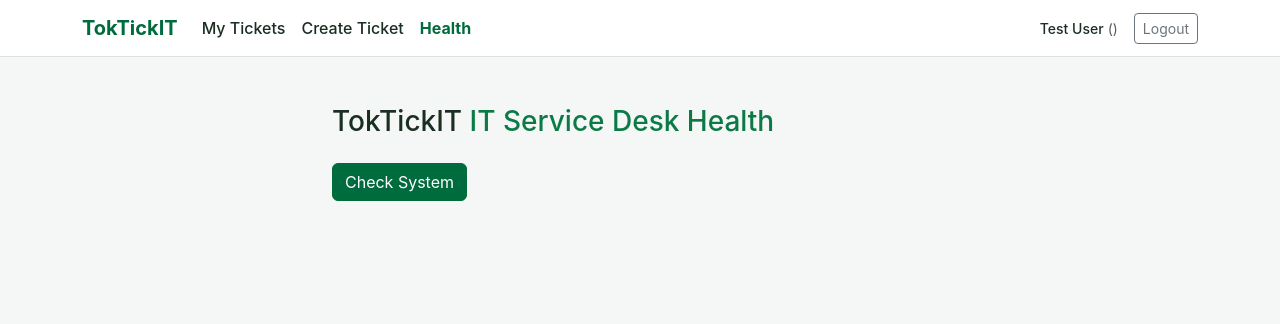
Scenario: App › UI-03: shows an Offline error message when the API is unavailable
The image size is (1280, 324).
Click the button "Check System" at (400, 182), box [332,163,467,201]
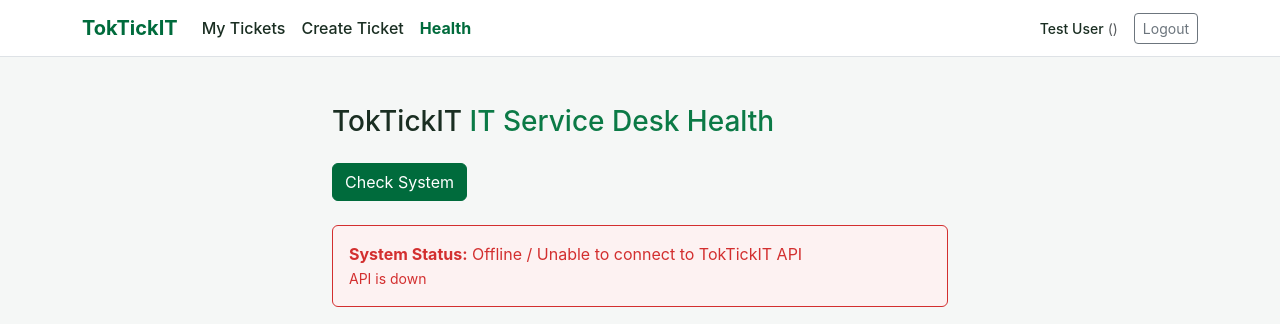
Result: the text "Unable to connect to TokTickIT API" is shown at [468,244,802,264]
Result: the text "API is down" is shown at [349,270,426,287]
